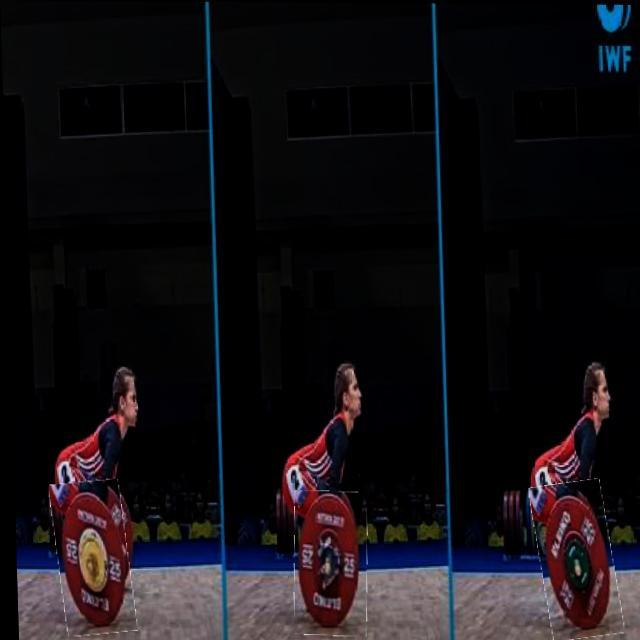barbell: (531, 480, 617, 640), (50, 481, 132, 636), (290, 491, 366, 637)
